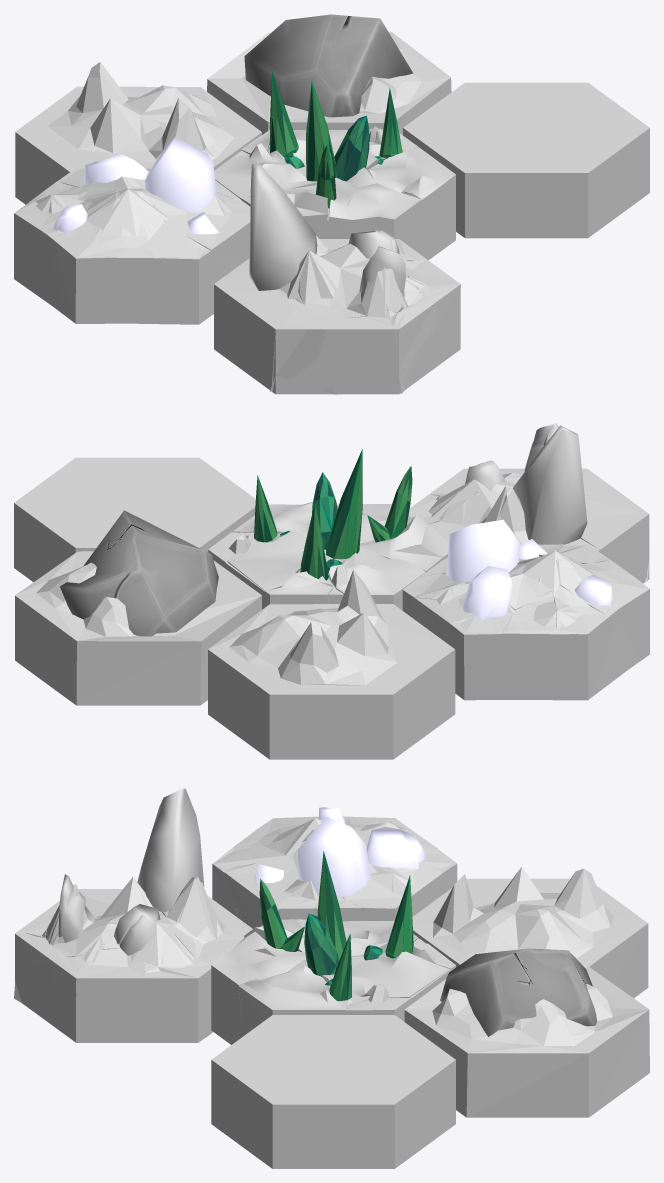
File: tiles.fbx
3 renders of one model, top to bottom at view 1: azimuth 30°, elevation 25°; view 2: azimuth 150°, elevation 25°; view 3: azimuth 270°, elevation 25°, orthographic.
Visible parts, largest first — view 1: Cylinder.001_cell.001, Stone001.001, Stone02, Cylinder.003, Cylinder.003_cell.004, Cylinder.005, Cylinder.001_cell.006, Cartoon Gem.003, Cylinder.004_cell.005, Cylinder.005_cell.002, Cartoon Gem.006, Stone003 (+14 smaller); view 2: Stone02, Cylinder.001_cell.001, Cylinder.003, Cylinder.005, Cylinder.005_cell.002, Stone001.001, Cylinder.001_cell.006, Cylinder.003_cell.002, Cartoon Gem.001, Cylinder.003_cell.008, Cylinder.003_cell.003, Cylinder.004_cell.005 (+16 smaller); view 3: Cylinder.001_cell.001, Stone02, Stone001.001, Cylinder.005, Cylinder.003, Cylinder.001_cell.006, Cartoon Gem.003, Cartoon Gem.006, Stone002, Cylinder.003_cell.003, Cartoon Gem.001, Cylinder.003_cell.008 (+17 smaller).
Part boxes in pixels (x1,y1,x2,y2): Cylinder.001_cell.001: (403, 82, 649, 238); Stone001.001: (214, 164, 460, 394); Stone02: (207, 14, 451, 135); Cylinder.003: (14, 144, 250, 324); Cylinder.003_cell.004: (39, 192, 169, 323); Cylinder.005: (15, 62, 261, 187); Cylinder.001_cell.006: (241, 71, 455, 260); Cartoon Gem.003: (317, 145, 426, 257); Cylinder.004_cell.005: (226, 283, 307, 387); Cylinder.005_cell.002: (15, 77, 128, 204); Cartoon Gem.006: (368, 89, 455, 247); Stone003: (290, 244, 423, 318); Stone02: (15, 510, 261, 705); Cylinder.001_cell.001: (14, 457, 255, 582); Cylinder.003: (407, 519, 649, 700); Cylinder.005: (208, 570, 454, 759); Cylinder.005_cell.002: (261, 630, 425, 759); Stone001.001: (409, 423, 649, 583); Cylinder.001_cell.006: (226, 449, 447, 609); Cylinder.003_cell.002: (495, 579, 612, 691); Cartoon Gem.001: (227, 473, 339, 590); Cylinder.003_cell.008: (415, 585, 512, 700); Cylinder.003_cell.003: (402, 524, 560, 619); Cylinder.004_cell.005: (581, 502, 649, 581); Cylinder.001_cell.001: (211, 1015, 455, 1168); Stone02: (404, 948, 649, 1117); Stone001.001: (15, 788, 252, 1042); Cylinder.005: (412, 867, 648, 998); Cylinder.003: (212, 807, 457, 927); Cylinder.001_cell.006: (211, 851, 450, 1044); Cartoon Gem.003: (211, 884, 307, 1043); Cartoon Gem.006: (239, 934, 351, 1036); Stone002: (74, 913, 147, 1042); Cylinder.003_cell.003: (297, 818, 405, 920); Cartoon Gem.001: (306, 951, 449, 997); Cylinder.003_cell.008: (367, 827, 456, 915).
Size of the model in its own units: 537 by 166 by 520.
Materials: 18 (4 with a texture image).
